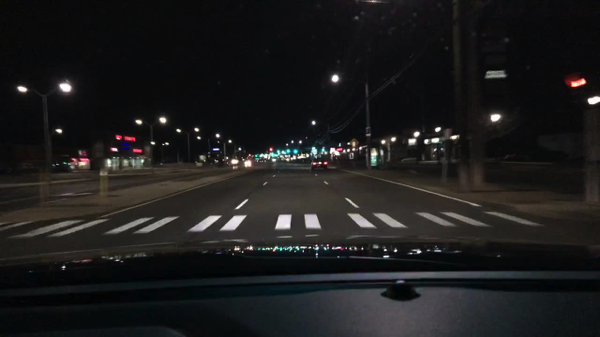car: (501, 149, 567, 163), (7, 163, 39, 175), (310, 156, 329, 171), (241, 159, 256, 170), (228, 157, 239, 166)
traffic light: (320, 145, 325, 154), (293, 147, 296, 154), (287, 148, 290, 154)
traffic sign: (348, 138, 359, 147), (365, 127, 370, 137), (349, 153, 353, 160), (213, 148, 220, 151)
